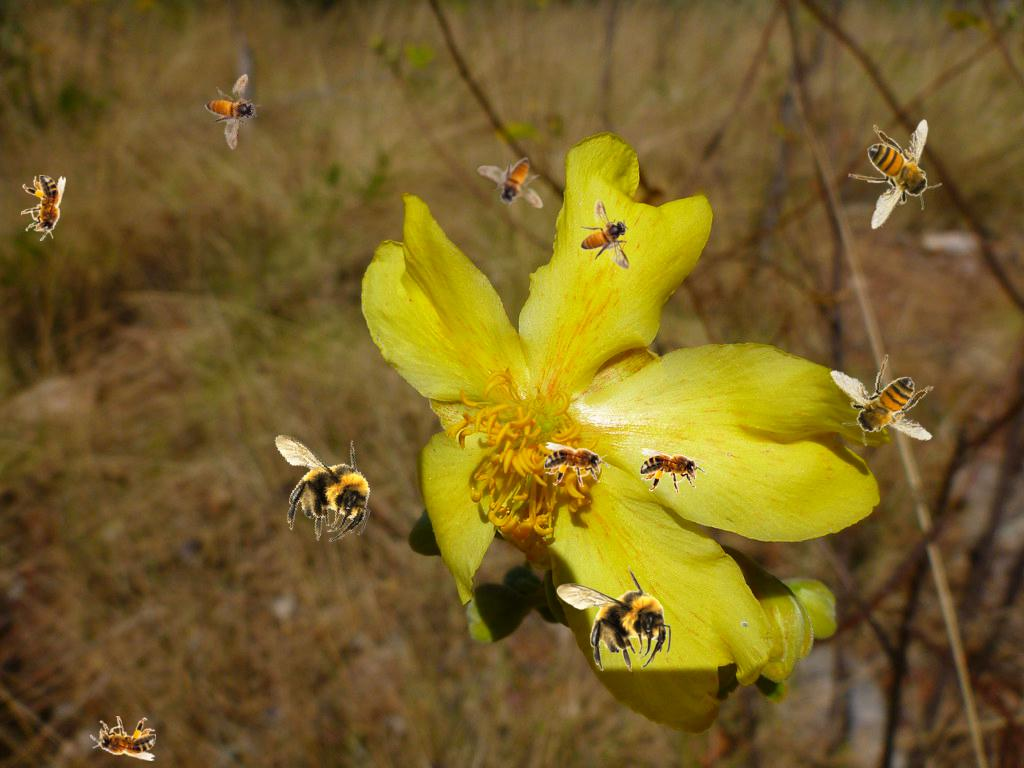Bee: (247, 414, 392, 555), (819, 346, 944, 456), (556, 565, 671, 672), (848, 119, 942, 230), (474, 140, 558, 227), (192, 64, 274, 151), (580, 199, 630, 270), (90, 716, 156, 761), (21, 175, 66, 241), (544, 442, 610, 487), (640, 448, 706, 493)
